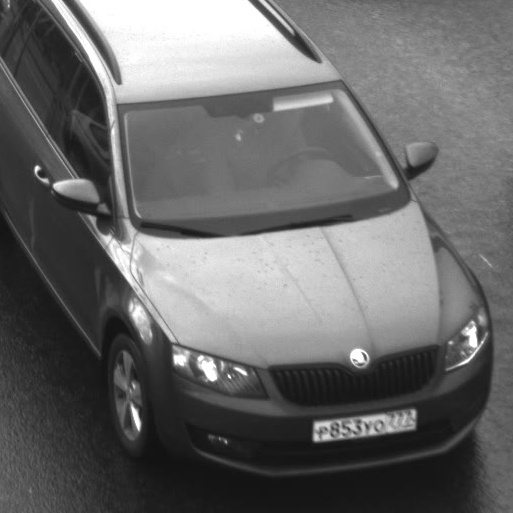plate: (300, 395, 424, 449)
